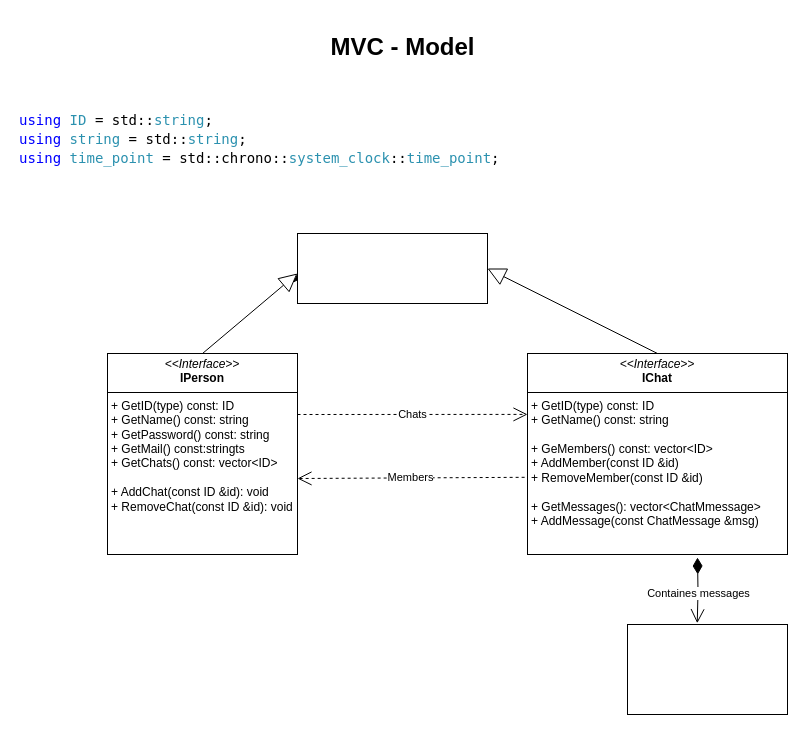
Image size: 805x732. Some labels were removed from this diagram. Each missing label, with the centre of its shape:
"<<Interface>> IEntity + GetID(type) const: ID" goes at point 392,268.
"ChatMessage + sender: ID + text: string + send_time: time_point" goes at point 707,669.
